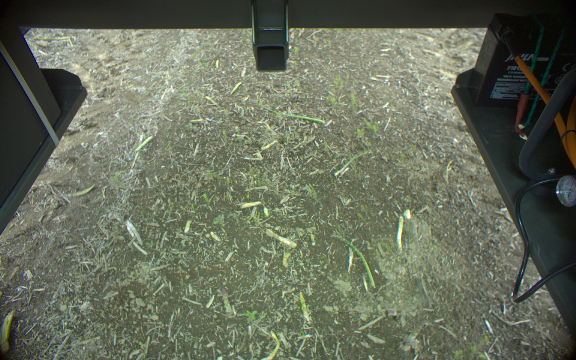aspa: (332, 235, 375, 286), (258, 103, 325, 125), (218, 285, 232, 314), (395, 214, 403, 251)
